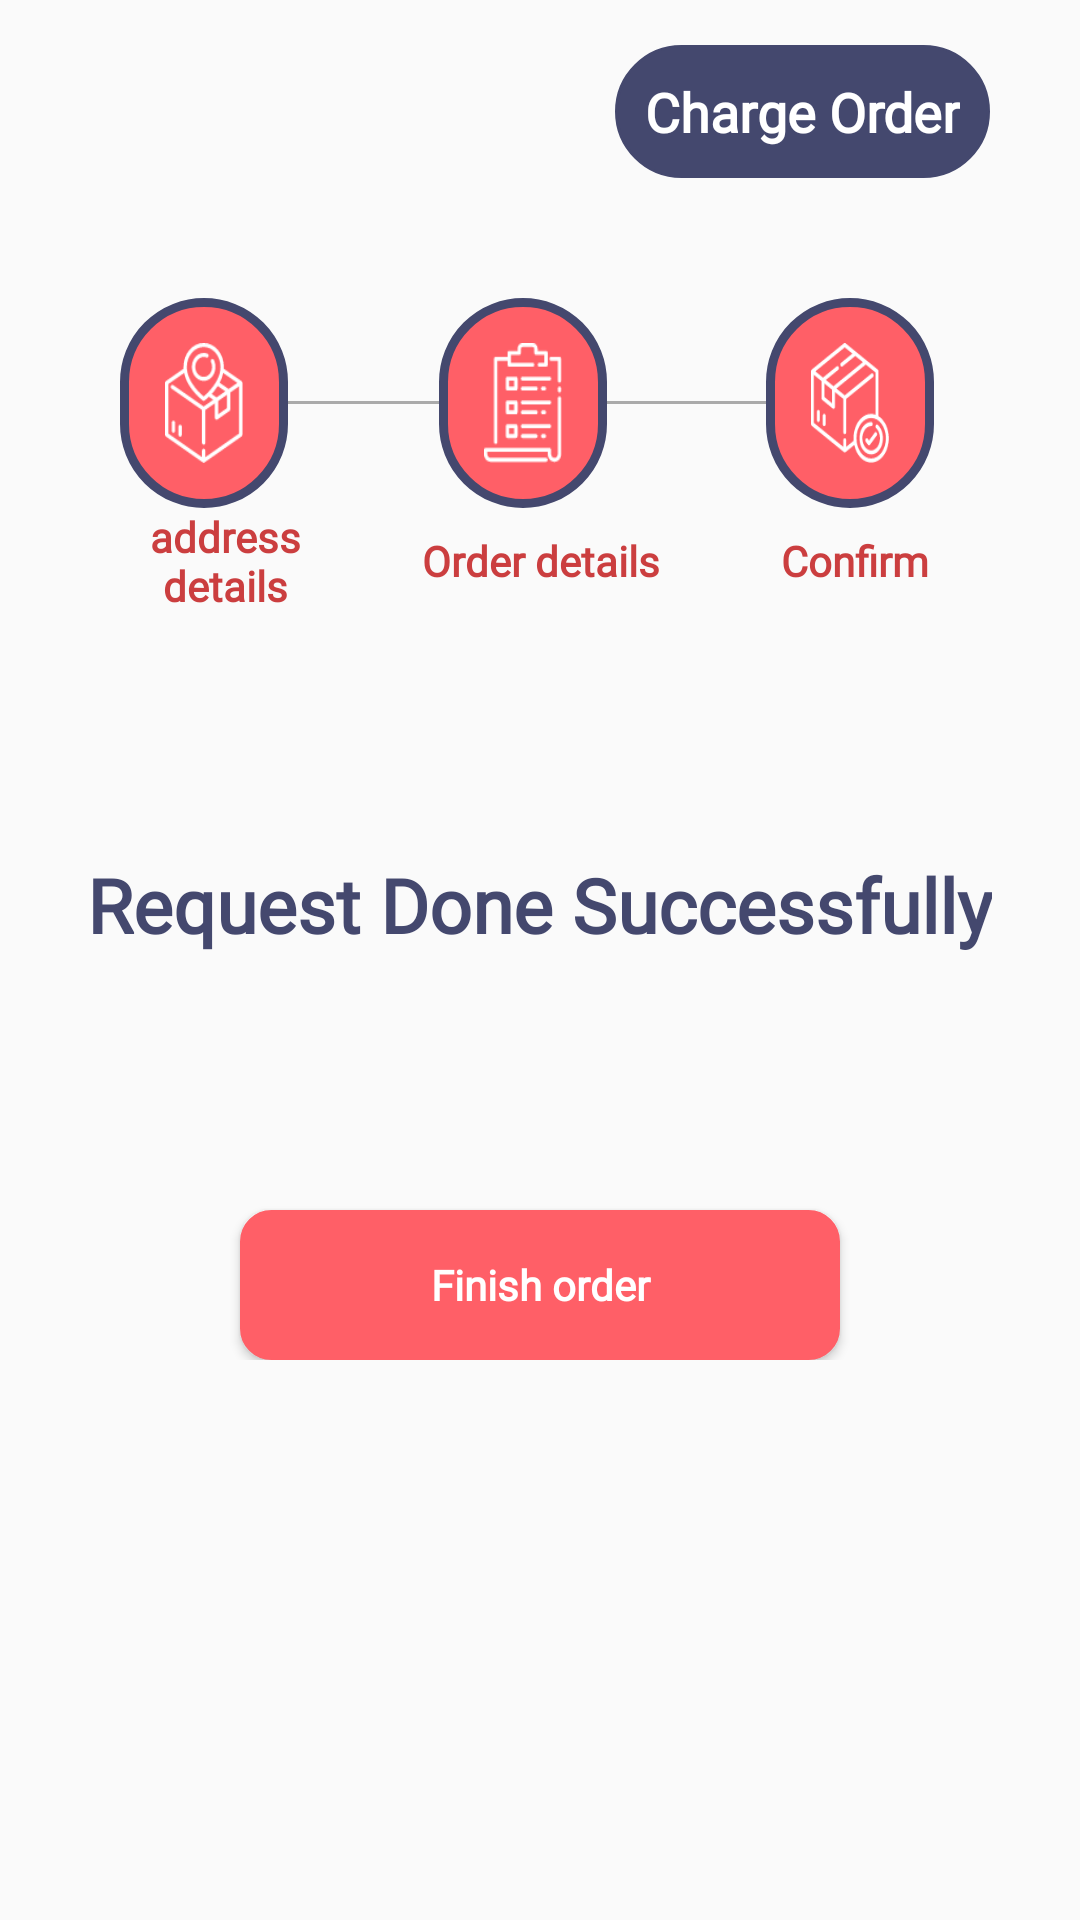

Icon bounding boxes for this 1080 x 1920 phone screenshot, format {"left": x1, "top": y1, "right": x2, "bottom": y2}:
noun checklist: {"left": 439, "top": 298, "right": 607, "bottom": 508}
noun order: {"left": 766, "top": 298, "right": 934, "bottom": 508}
noun shipment tracking: {"left": 120, "top": 298, "right": 288, "bottom": 508}
